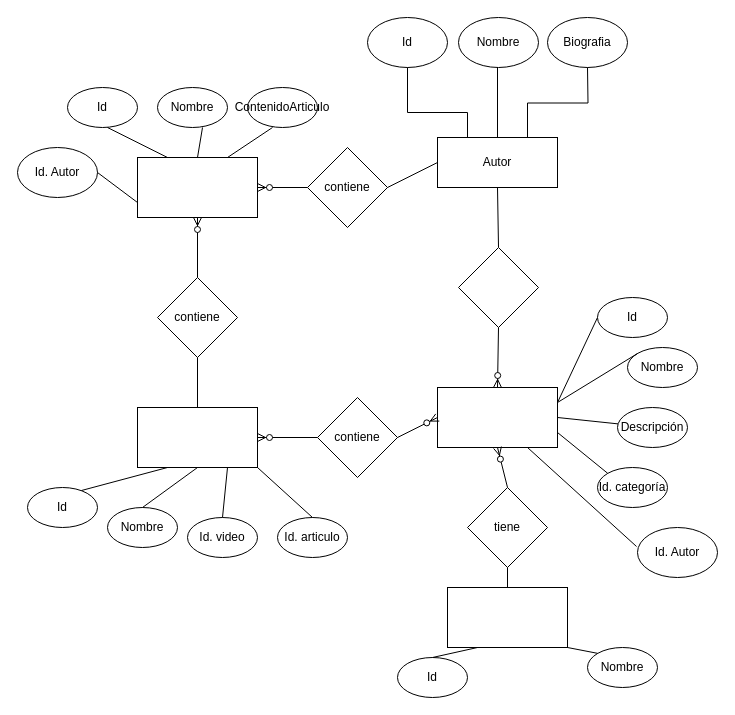
The diagram is 735 pixels wide and 715 high, and some of its shapes have lost their labels. The box of each missing label's shape, as (x1, y1, x2, y2) in pixels:
Articulo: (136, 156, 258, 218)
Categoria: (446, 586, 568, 648)
Creado: (458, 246, 538, 328)
Curso: (136, 406, 258, 468)
Video: (436, 386, 558, 448)
